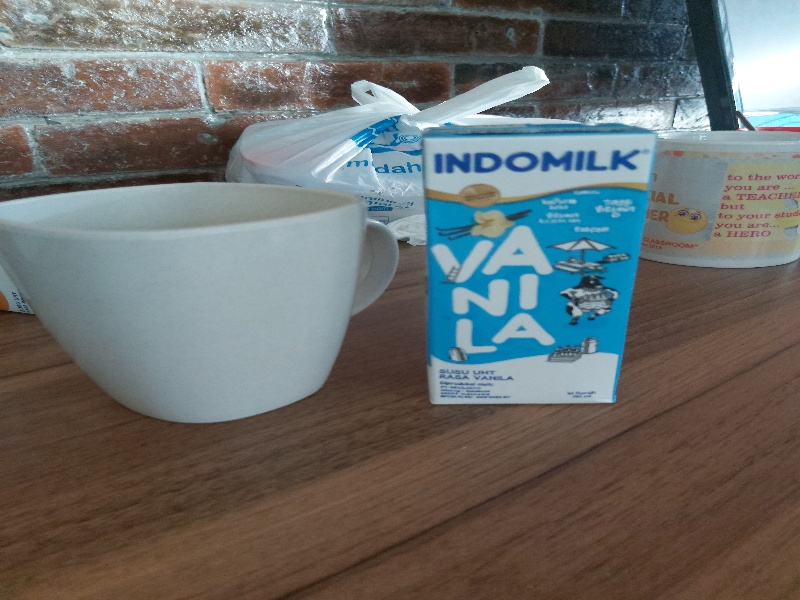vanilla: (422, 126, 661, 404)
